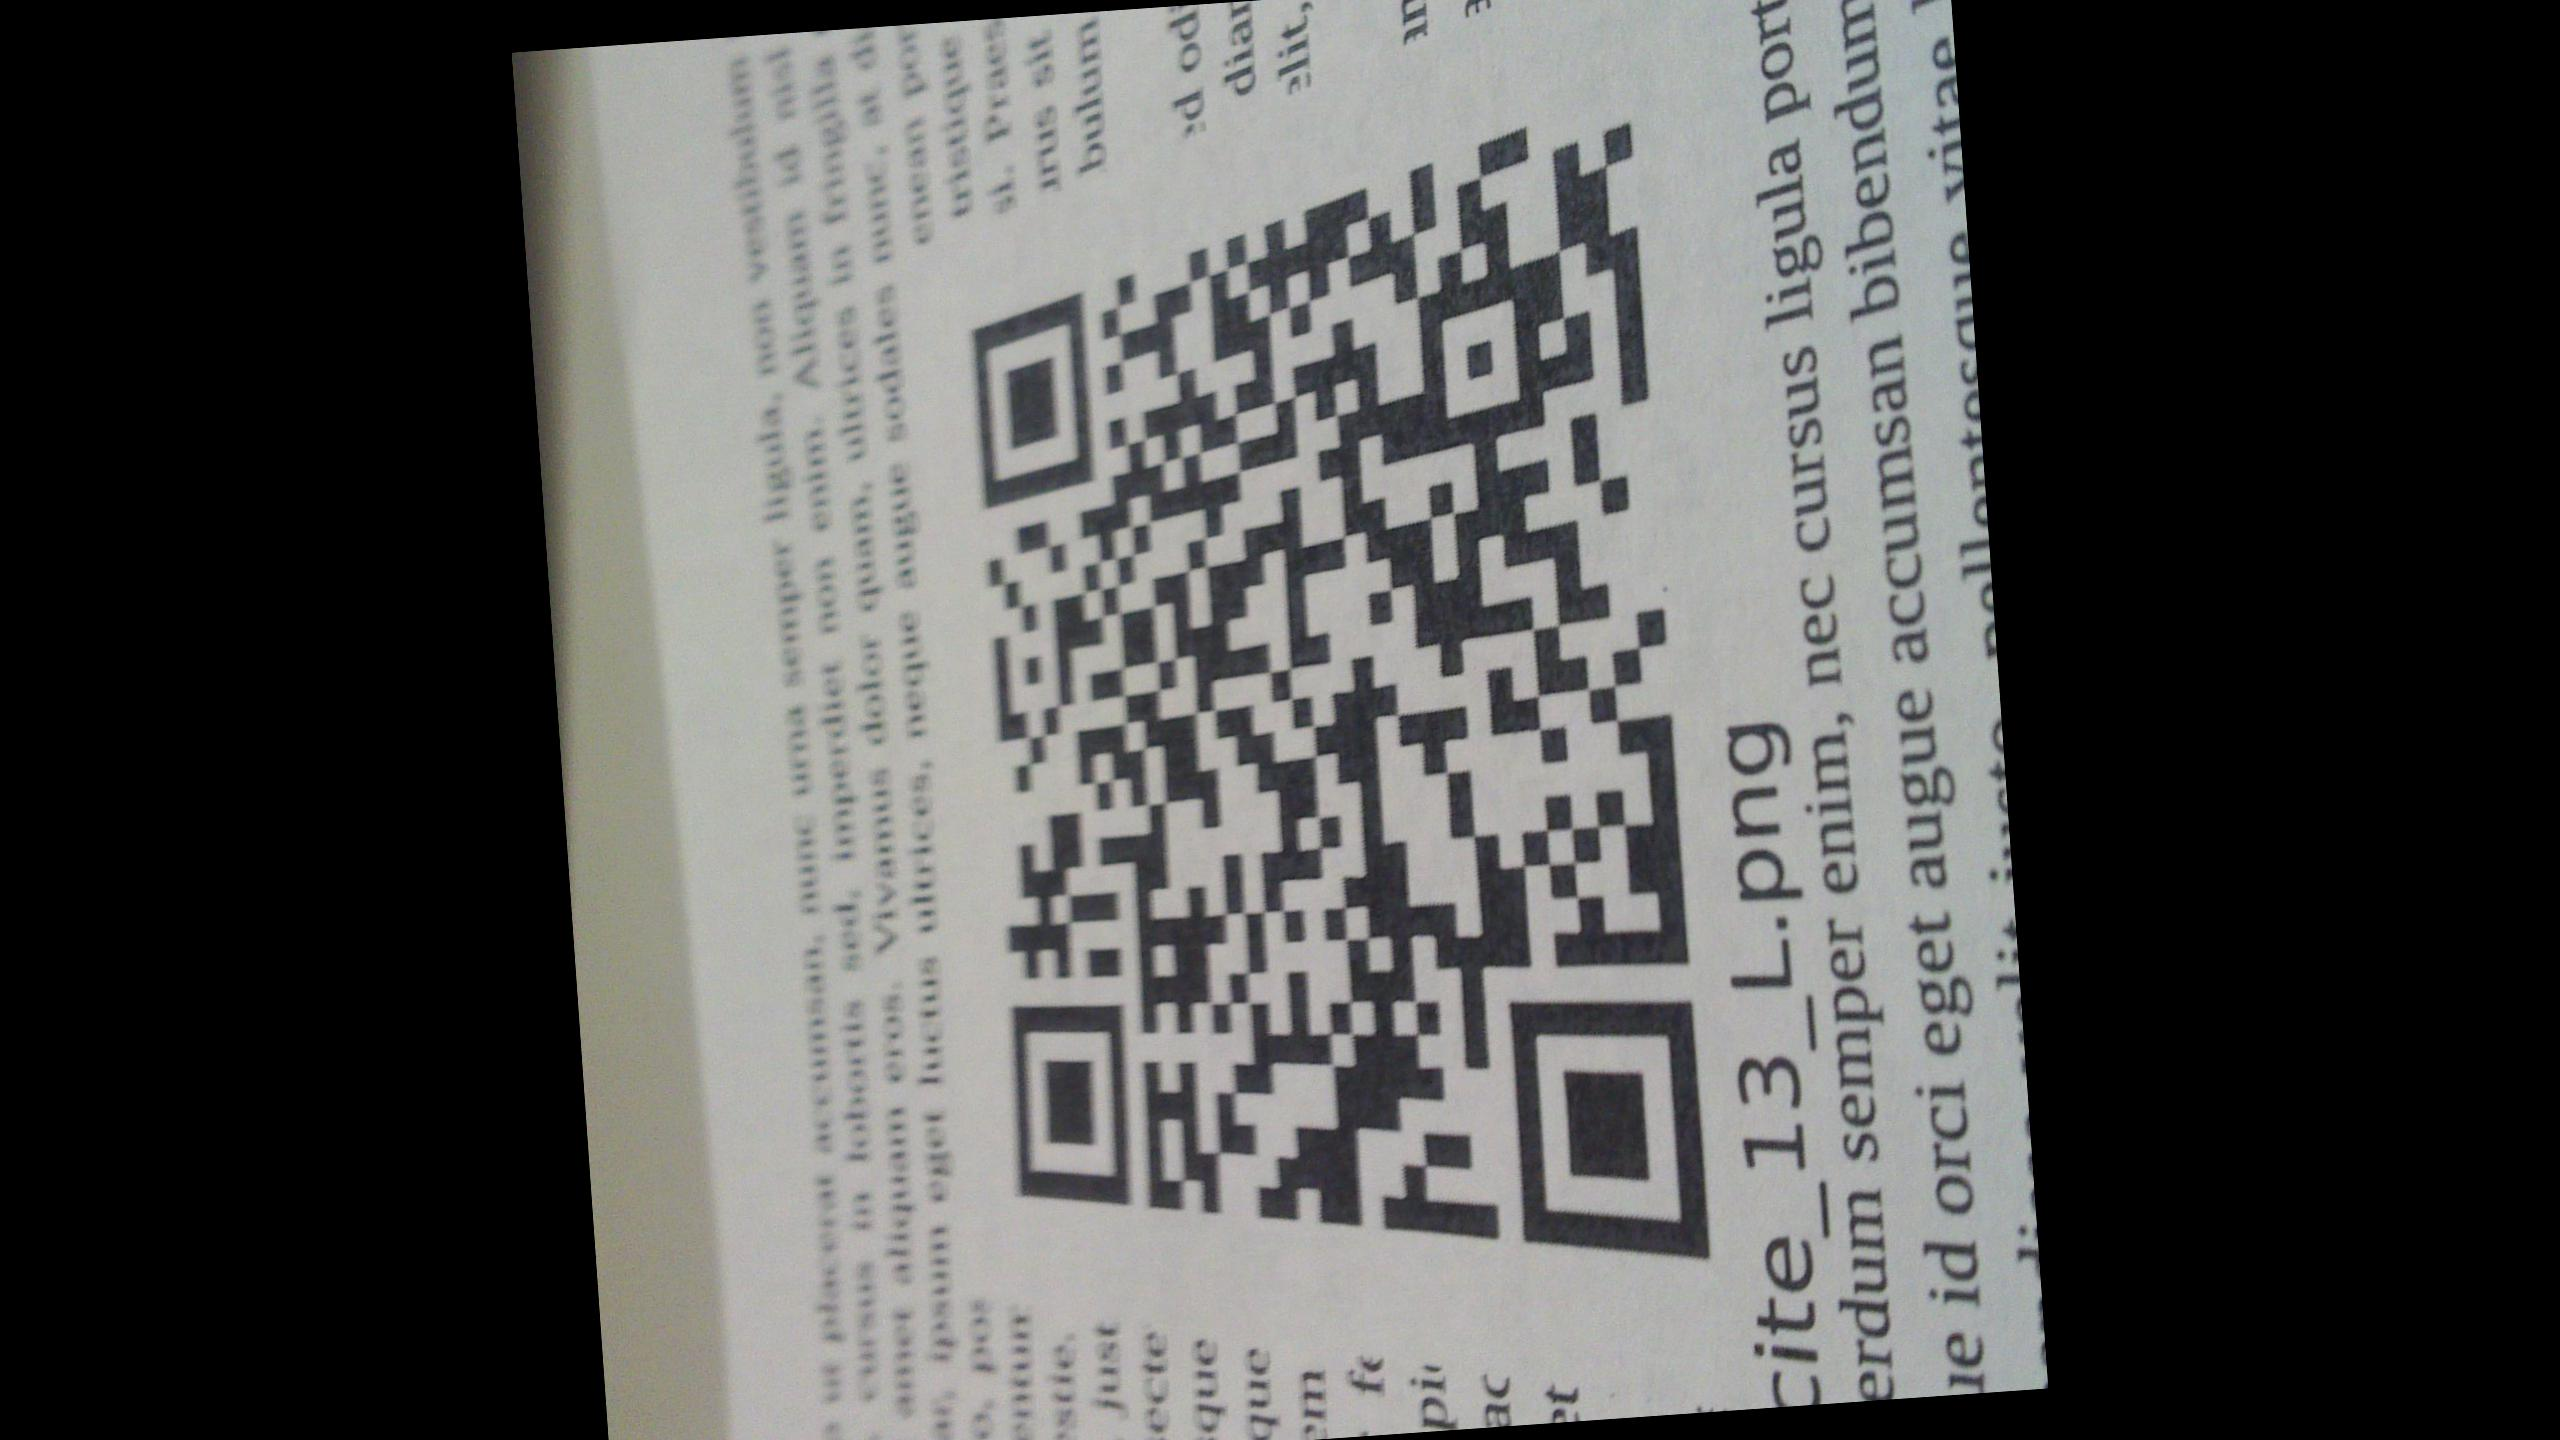QR: (923, 105, 1734, 1257)
